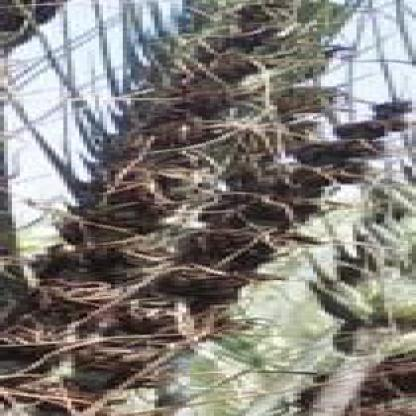Wheat Smut: (4, 314, 107, 415), (14, 268, 215, 308), (83, 184, 169, 224), (59, 220, 137, 262), (111, 142, 206, 175), (190, 227, 270, 263), (180, 42, 252, 79), (143, 111, 251, 135), (217, 195, 285, 227), (153, 78, 234, 104), (274, 159, 342, 189), (123, 313, 181, 348), (116, 359, 162, 391), (371, 368, 404, 404), (343, 125, 390, 144), (309, 140, 366, 154), (237, 6, 289, 21), (381, 99, 415, 116)
